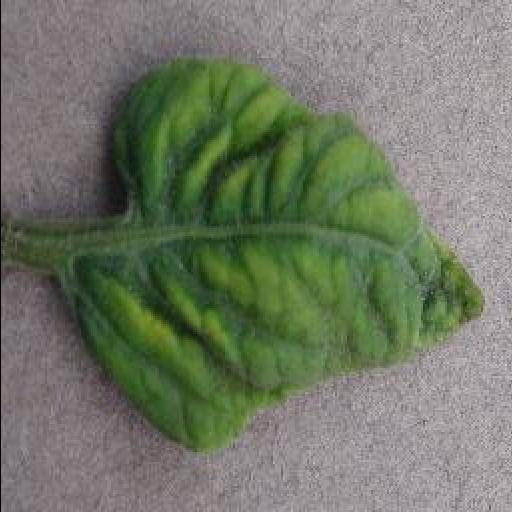disease_tomato: (46, 58, 486, 454)
